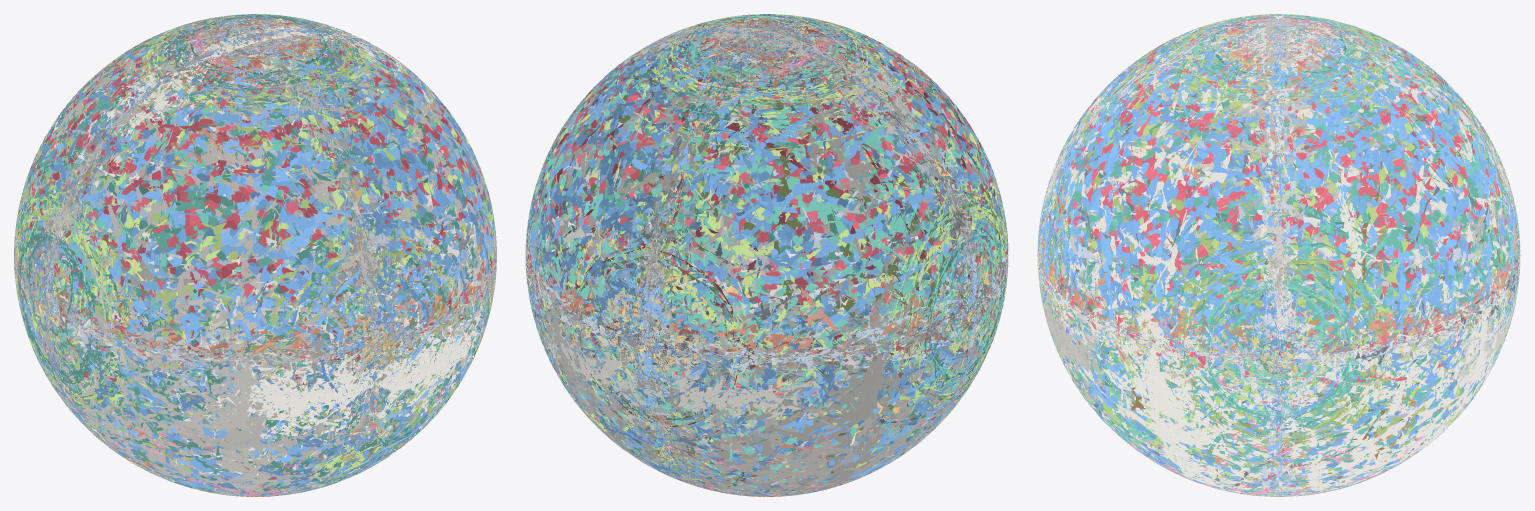
The model's file is floor2.glb.
The picture shows the model from 3 angles, left to right: view 1: azimuth 30°, elevation 25°; view 2: azimuth 150°, elevation 25°; view 3: azimuth 270°, elevation 25°; orthographic projection.
Parts seen in each view (by area): view 1: LQ-2F-architectural, LQ-2F-hvac, LQ-2F-piping, LQ-2F-piping_frp, LQ-2F-safety, LQ-2F-structural, LQ-2F-telecom, LQ-2F-fg, LQ-2F-equipment, LQ-2F-lighting, LQ-2F-e_i, other; view 2: LQ-2F-architectural, LQ-2F-hvac, LQ-2F-piping, LQ-2F-piping_frp, LQ-2F-structural, LQ-2F-safety, LQ-2F-telecom, LQ-2F-equipment, LQ-2F-fg, other, LQ-2F-e_i, LQ-2F-lighting; view 3: LQ-2F-architectural, LQ-2F-hvac, LQ-2F-piping, LQ-2F-piping_frp, LQ-2F-structural, LQ-2F-safety, LQ-2F-telecom, LQ-2F-fg, LQ-2F-equipment, other, LQ-2F-e_i, LQ-2F-lighting.
Part boxes in pixels (x1=…): LQ-2F-architectural: x1=14, y1=14, x2=496, y2=496; LQ-2F-hvac: x1=14, y1=14, x2=496, y2=496; LQ-2F-piping: x1=14, y1=14, x2=496, y2=496; LQ-2F-piping_frp: x1=14, y1=14, x2=496, y2=496; LQ-2F-safety: x1=14, y1=14, x2=496, y2=490; LQ-2F-structural: x1=14, y1=14, x2=496, y2=496; LQ-2F-telecom: x1=14, y1=14, x2=496, y2=496; LQ-2F-fg: x1=22, y1=17, x2=496, y2=495; LQ-2F-equipment: x1=15, y1=16, x2=490, y2=490; LQ-2F-lighting: x1=17, y1=19, x2=475, y2=491; LQ-2F-e_i: x1=15, y1=31, x2=493, y2=495; other: x1=16, y1=18, x2=435, y2=494; LQ-2F-architectural: x1=525, y1=14, x2=1008, y2=496; LQ-2F-hvac: x1=526, y1=14, x2=1008, y2=496; LQ-2F-piping: x1=525, y1=14, x2=1008, y2=496; LQ-2F-piping_frp: x1=525, y1=14, x2=1007, y2=496; LQ-2F-structural: x1=525, y1=15, x2=1008, y2=494; LQ-2F-safety: x1=526, y1=14, x2=1007, y2=487; LQ-2F-telecom: x1=526, y1=14, x2=1008, y2=496; LQ-2F-equipment: x1=534, y1=14, x2=1007, y2=491; LQ-2F-fg: x1=528, y1=20, x2=989, y2=495; other: x1=528, y1=30, x2=998, y2=488; LQ-2F-e_i: x1=525, y1=15, x2=1007, y2=495; LQ-2F-lighting: x1=530, y1=17, x2=1005, y2=489; LQ-2F-architectural: x1=1037, y1=14, x2=1520, y2=496; LQ-2F-hvac: x1=1037, y1=14, x2=1520, y2=496; LQ-2F-piping: x1=1038, y1=14, x2=1519, y2=496; LQ-2F-piping_frp: x1=1039, y1=14, x2=1520, y2=496; LQ-2F-structural: x1=1037, y1=14, x2=1520, y2=496; LQ-2F-safety: x1=1039, y1=15, x2=1517, y2=496; LQ-2F-telecom: x1=1037, y1=14, x2=1519, y2=496; LQ-2F-fg: x1=1057, y1=17, x2=1510, y2=496; LQ-2F-equipment: x1=1037, y1=18, x2=1519, y2=494; other: x1=1037, y1=15, x2=1516, y2=492; LQ-2F-e_i: x1=1037, y1=31, x2=1520, y2=471; LQ-2F-lighting: x1=1038, y1=19, x2=1520, y2=475.
Size of the model in its own units: 2 by 2 by 2.
